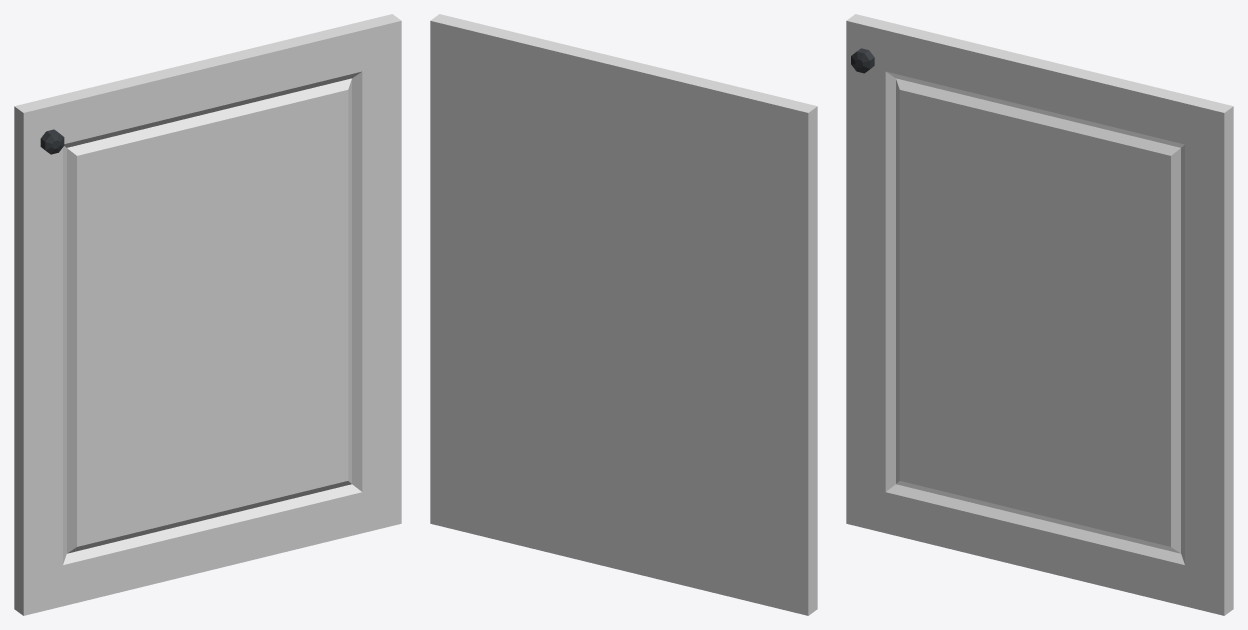
File: Door3_C1_01.fbx
The picture shows the model from 3 angles, left to right: view 1: azimuth 30°, elevation 25°; view 2: azimuth 150°, elevation 25°; view 3: azimuth 330°, elevation 25°; orthographic projection.
Parts seen in each view (by area): view 1: Door3_C1_01; view 2: Door3_C1_01; view 3: Door3_C1_01.
Part boxes in pixels (x1,y1,x2,y2): Door3_C1_01: (14, 14, 401, 615); Door3_C1_01: (430, 14, 817, 615); Door3_C1_01: (846, 14, 1233, 615).
Size of the model in its own units: 59 by 75 by 5.19.
